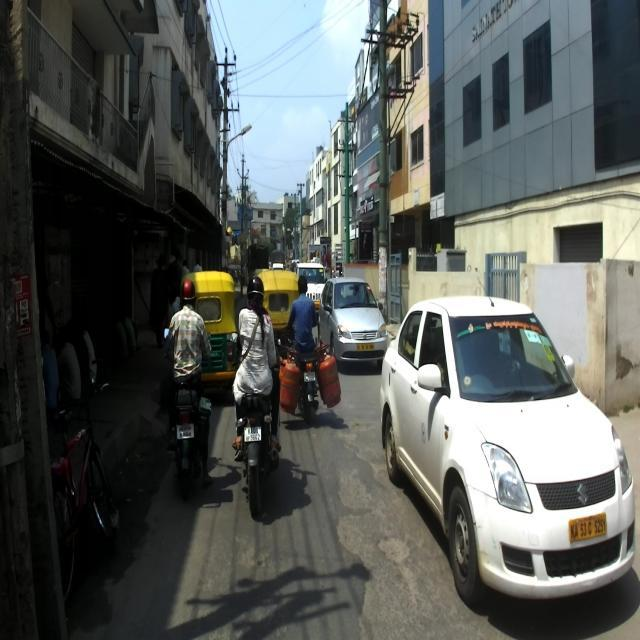pothole: (311, 425, 364, 640), (230, 528, 299, 606), (369, 522, 421, 606)
